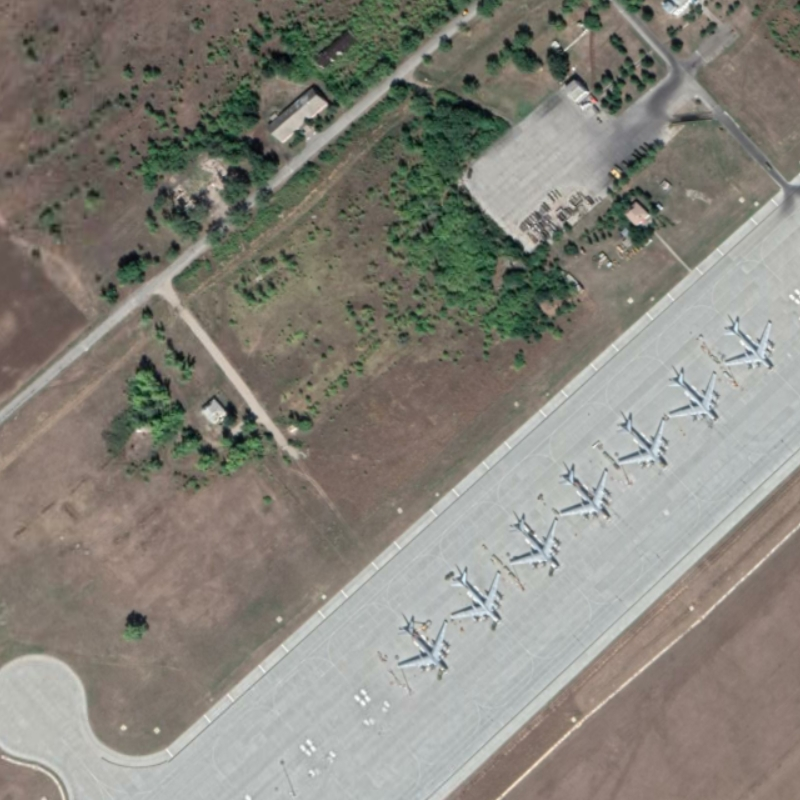A17: (552, 461, 615, 523), (391, 614, 452, 676), (611, 413, 673, 472), (446, 566, 505, 626), (664, 366, 723, 425), (507, 511, 564, 571), (720, 318, 777, 375)
